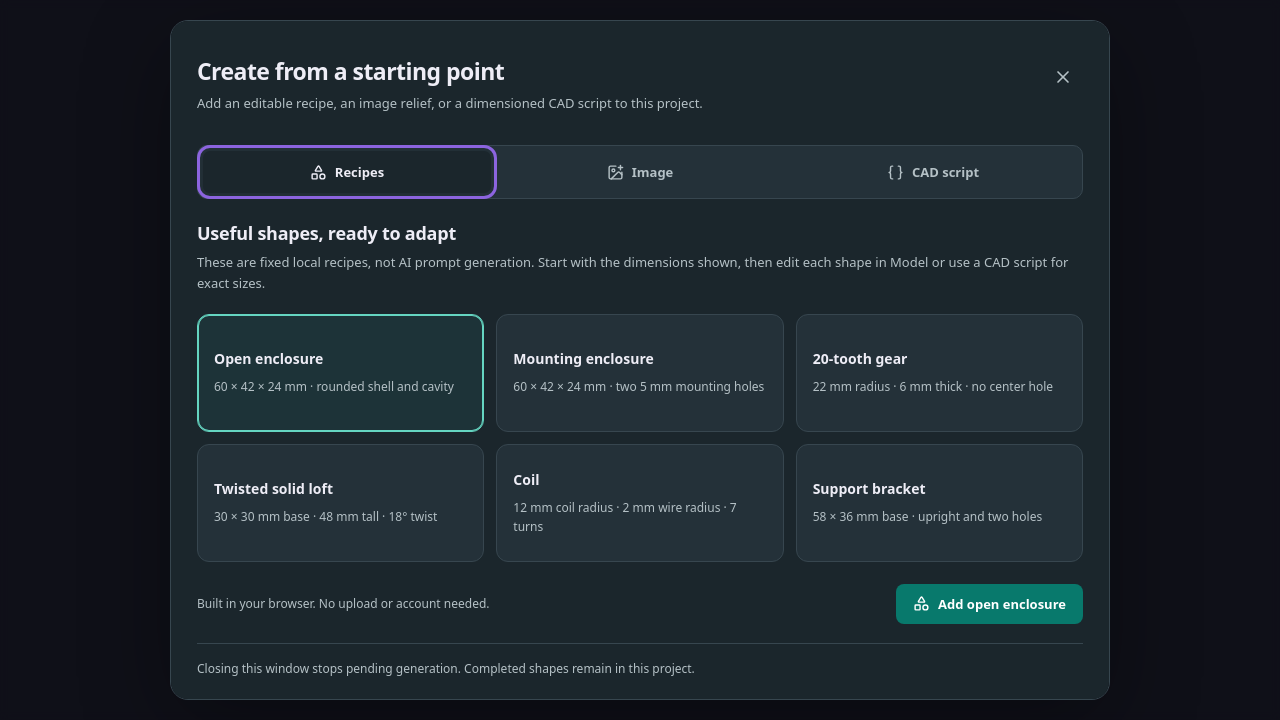
generation workflow › keeps cloud generation unavailable on a static site and opens with native modal focus
Expected: the button "Recipes" is shown, [203,151,491,193]
What coordinates should you click on to do the following:
click the button "Image"
I would click on:
 (640, 172)
Its box is [496,151,784,193].
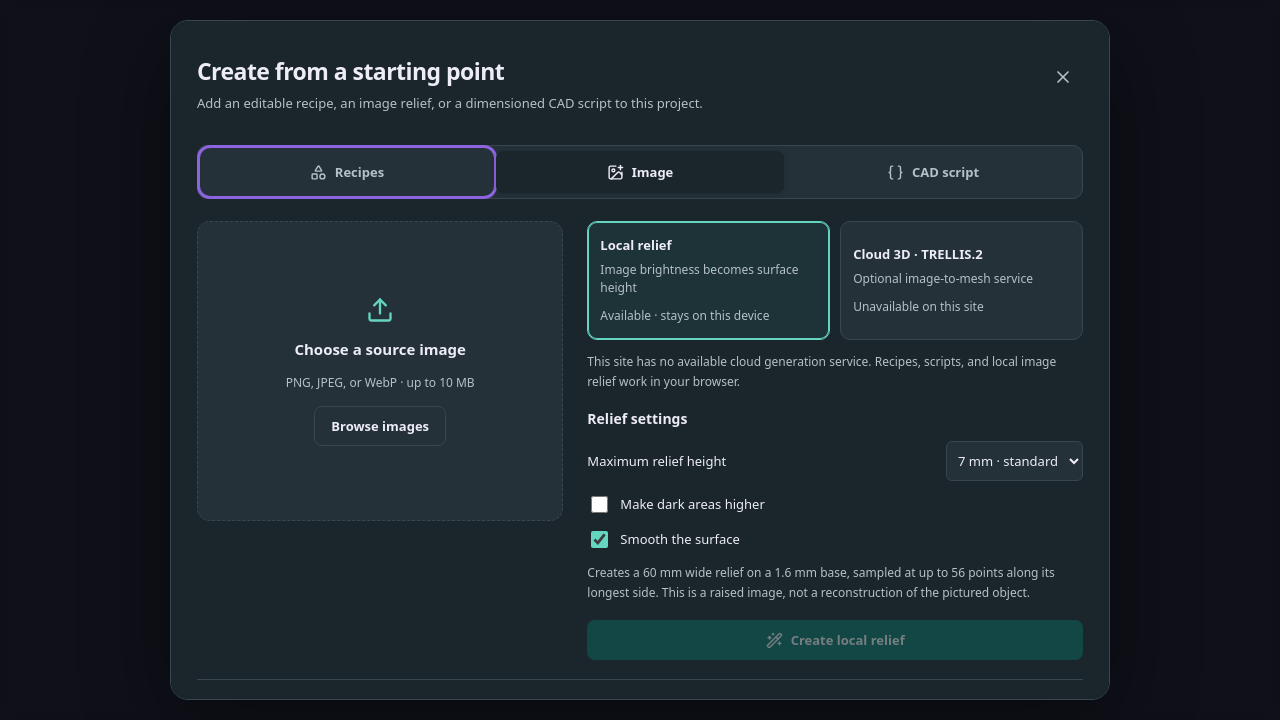
Expected: the button that starts with "Cloud 3D · TRELLIS.2" is disabled, [840,221,1083,340]
Expected: the button that starts with "Cloud 3D · TRELLIS.2" shows "Unavailable on this site", [840,221,1083,340]
Expected: the text "local image relief work in your browser" is shown, [587,353,1056,390]
